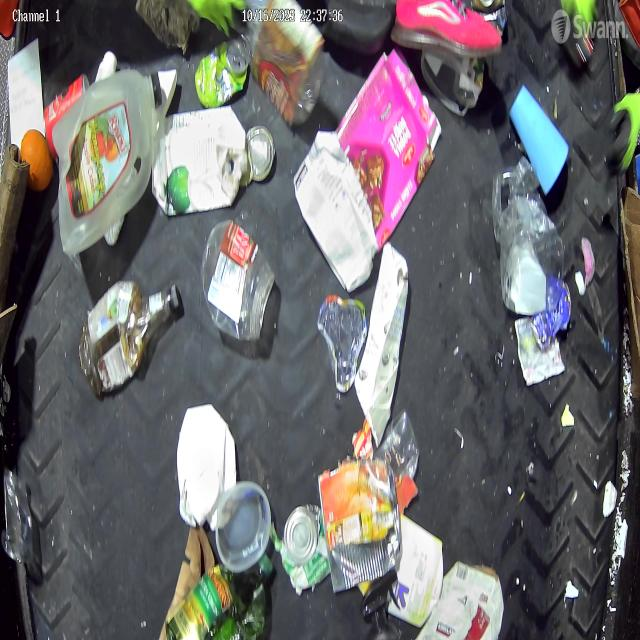can: (317, 458, 402, 594), (43, 72, 90, 160), (194, 37, 249, 108), (282, 502, 327, 587), (248, 126, 276, 184)
non_white_jug: (57, 64, 160, 260), (152, 105, 247, 218)
plastic_bottle: (379, 409, 423, 511)
